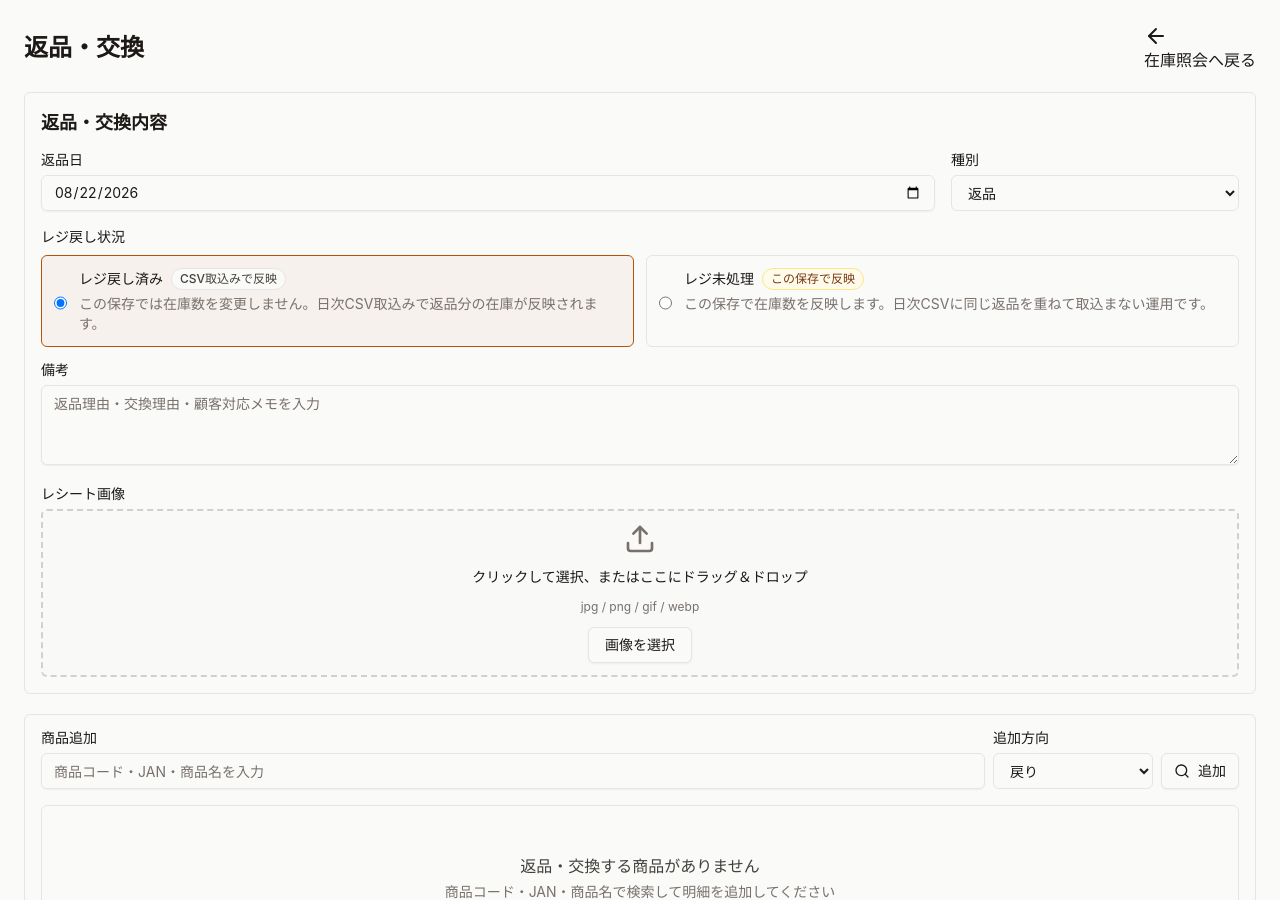
Test case: ReturnExchangePage (UI-03 / REQ-202) › REQ-202/UI-03-D19: note is multiline and visible in the saved result
Type "サイズ交換のため確認済み" into the text box labelled "備考".
click(640, 425); type("サイズ交換のため確認済み")  # box [41,385,1239,465]
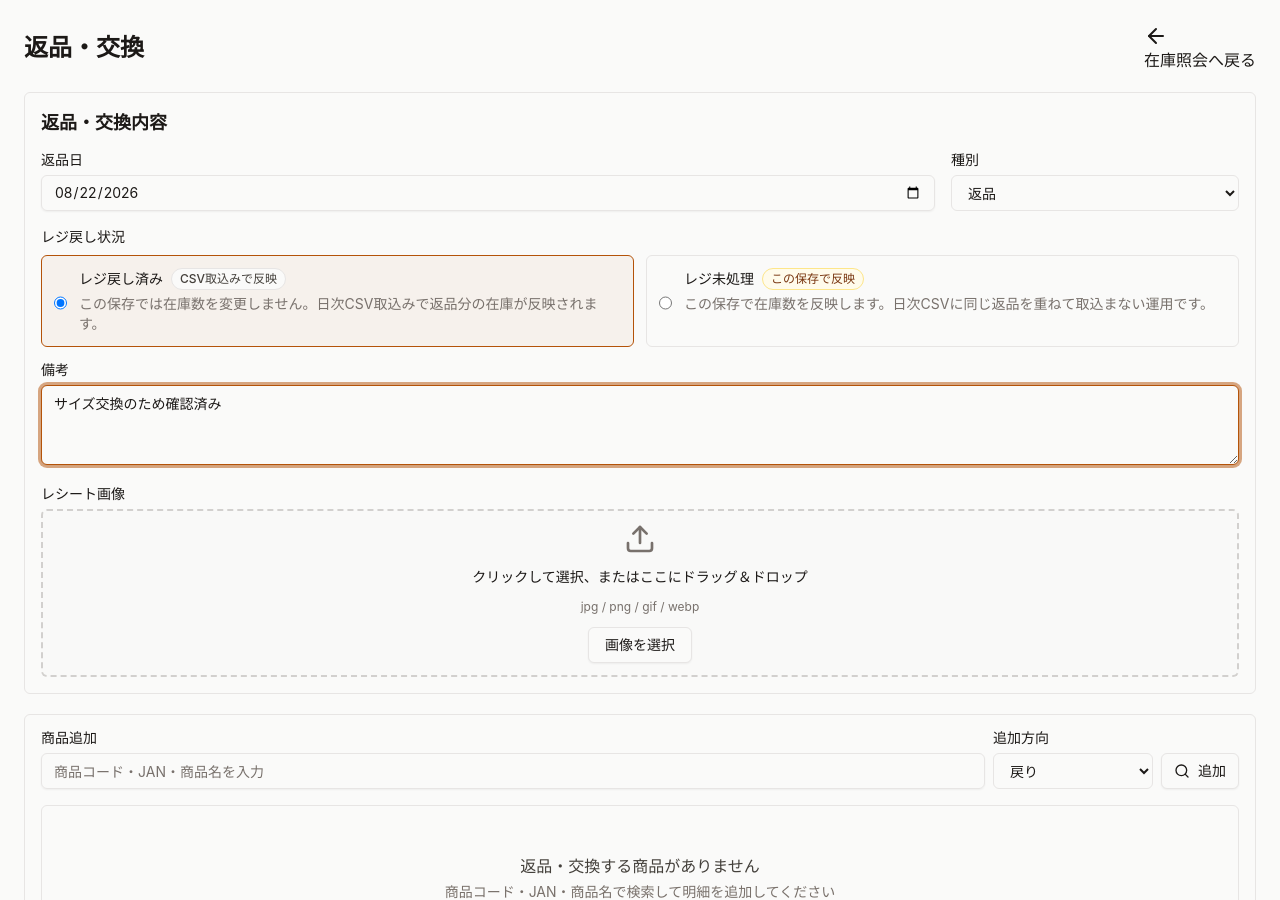
Type "RT-001" into the dropdown named "返品・交換商品検索".
click(513, 771); type("RT-001")  # box [41,753,985,789]
Then press Enter
(page scrolled)
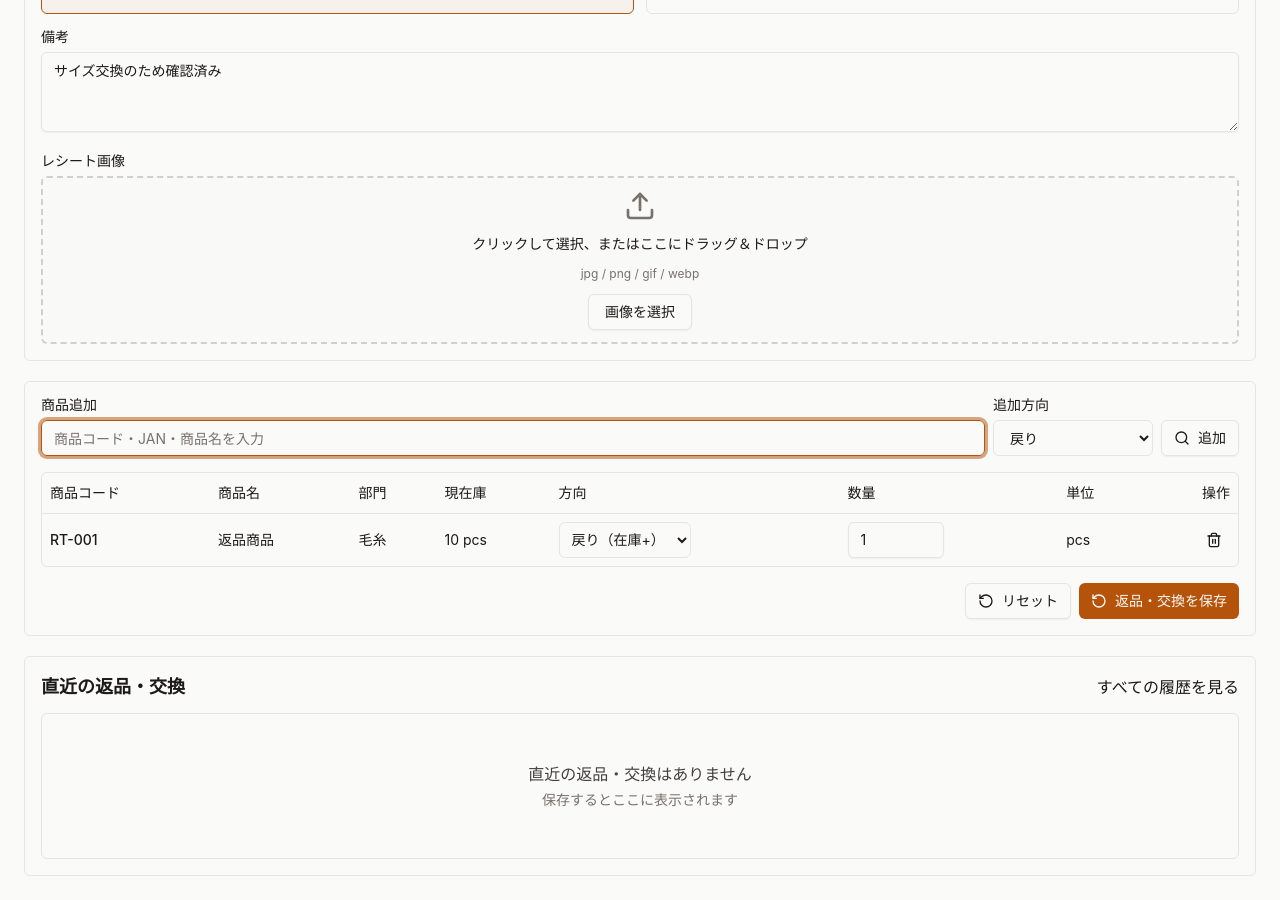
Expected: the text "RT-001" is shown, [42,513,210,566]
Click the button "返品・交換を保存".
click(1159, 600)  # box [1079,582,1239,618]
(page scrolled)
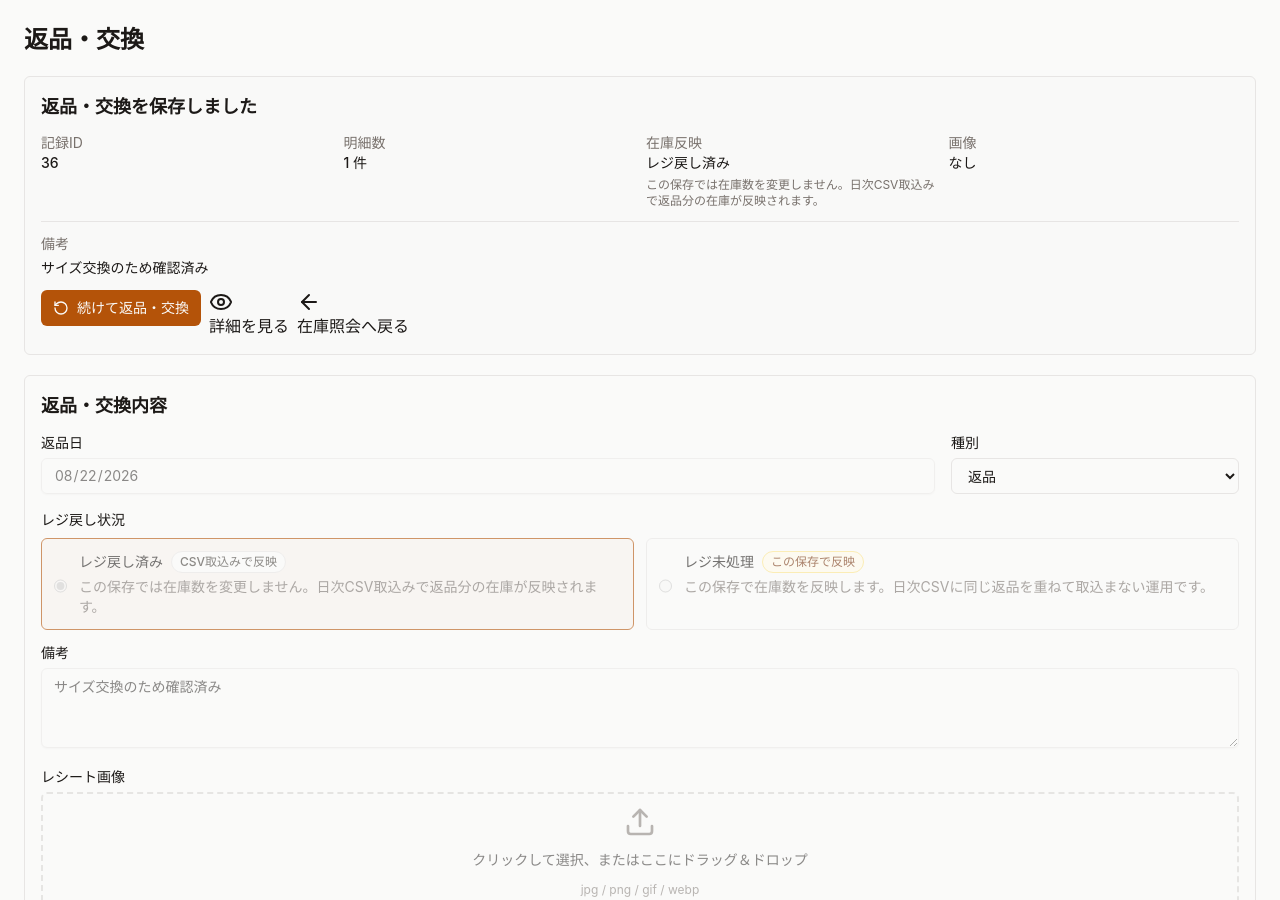
Expected: the text "サイズ交換のため確認済み" is shown, [41,259,209,276]
Expected: the text "備考" is shown, [41,235,69,252]
